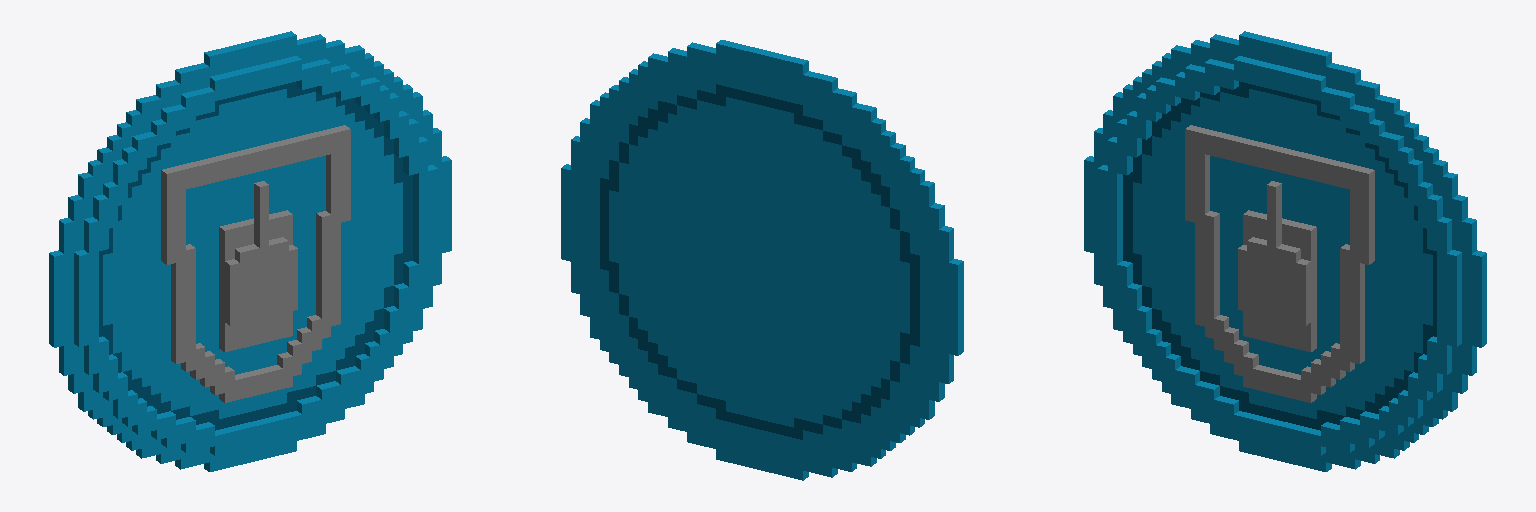
3 views of the same model, side by side, from view 1: azimuth 30°, elevation 25°; view 2: azimuth 150°, elevation 25°; view 3: azimuth 330°, elevation 25° (orthographic).
Visible parts, largest first — view 1: object 1; view 2: object 1; view 3: object 1.
Part boxes in pixels (bbox=[...]): object 1: bbox=[49, 31, 451, 471]; object 1: bbox=[561, 40, 963, 480]; object 1: bbox=[1084, 31, 1486, 471].
Bounding box in the file's own units: 4.1 × 4.1 × 0.3.
Materials: 1 (1 with a texture image).